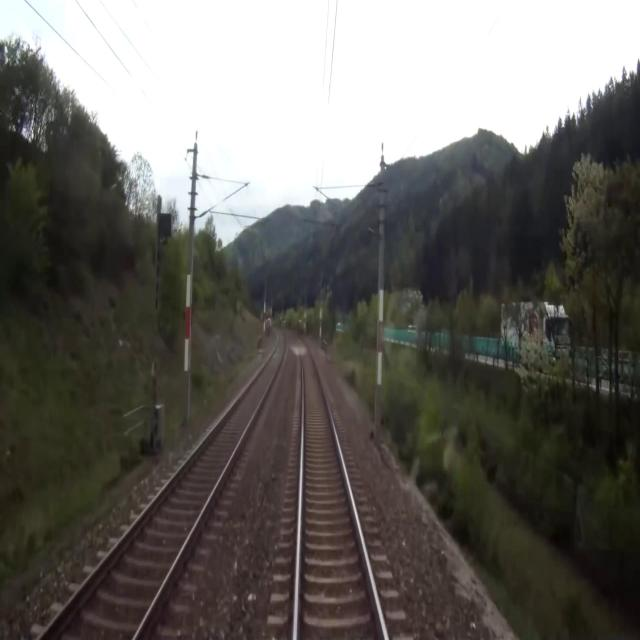rail-track: (43, 329, 284, 639), (289, 327, 384, 639)
